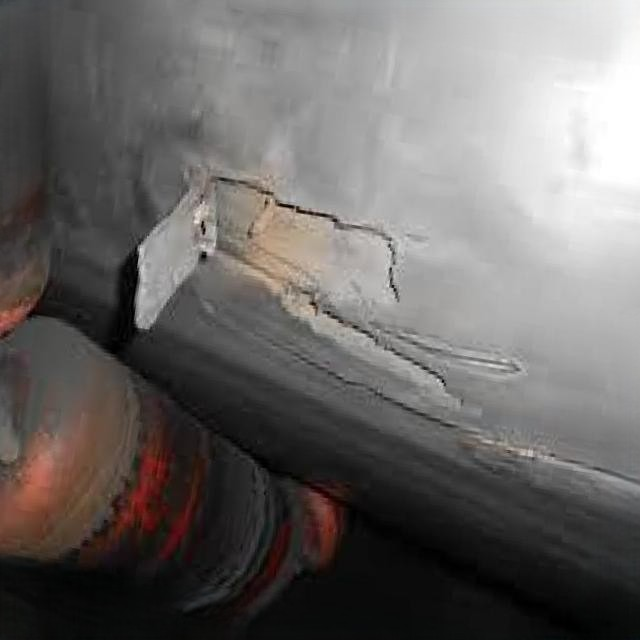Tear: (129, 166, 528, 386)
